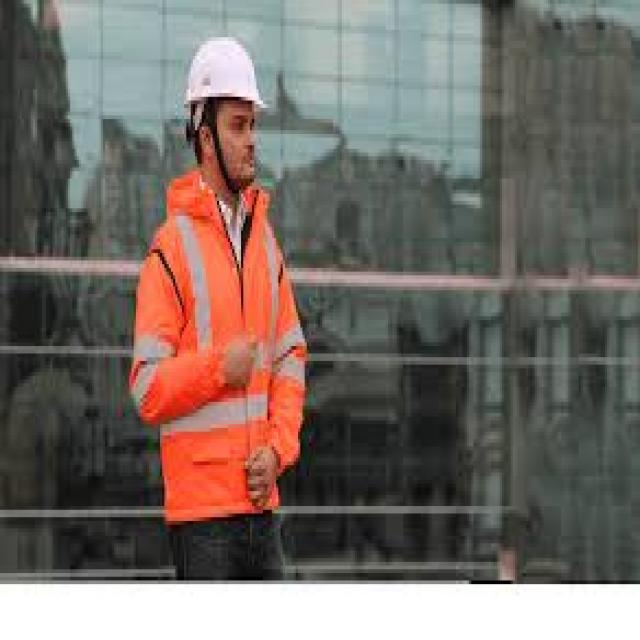Reflective-Jacket: (132, 171, 309, 540)
Safety-Helmet: (173, 26, 272, 127)
